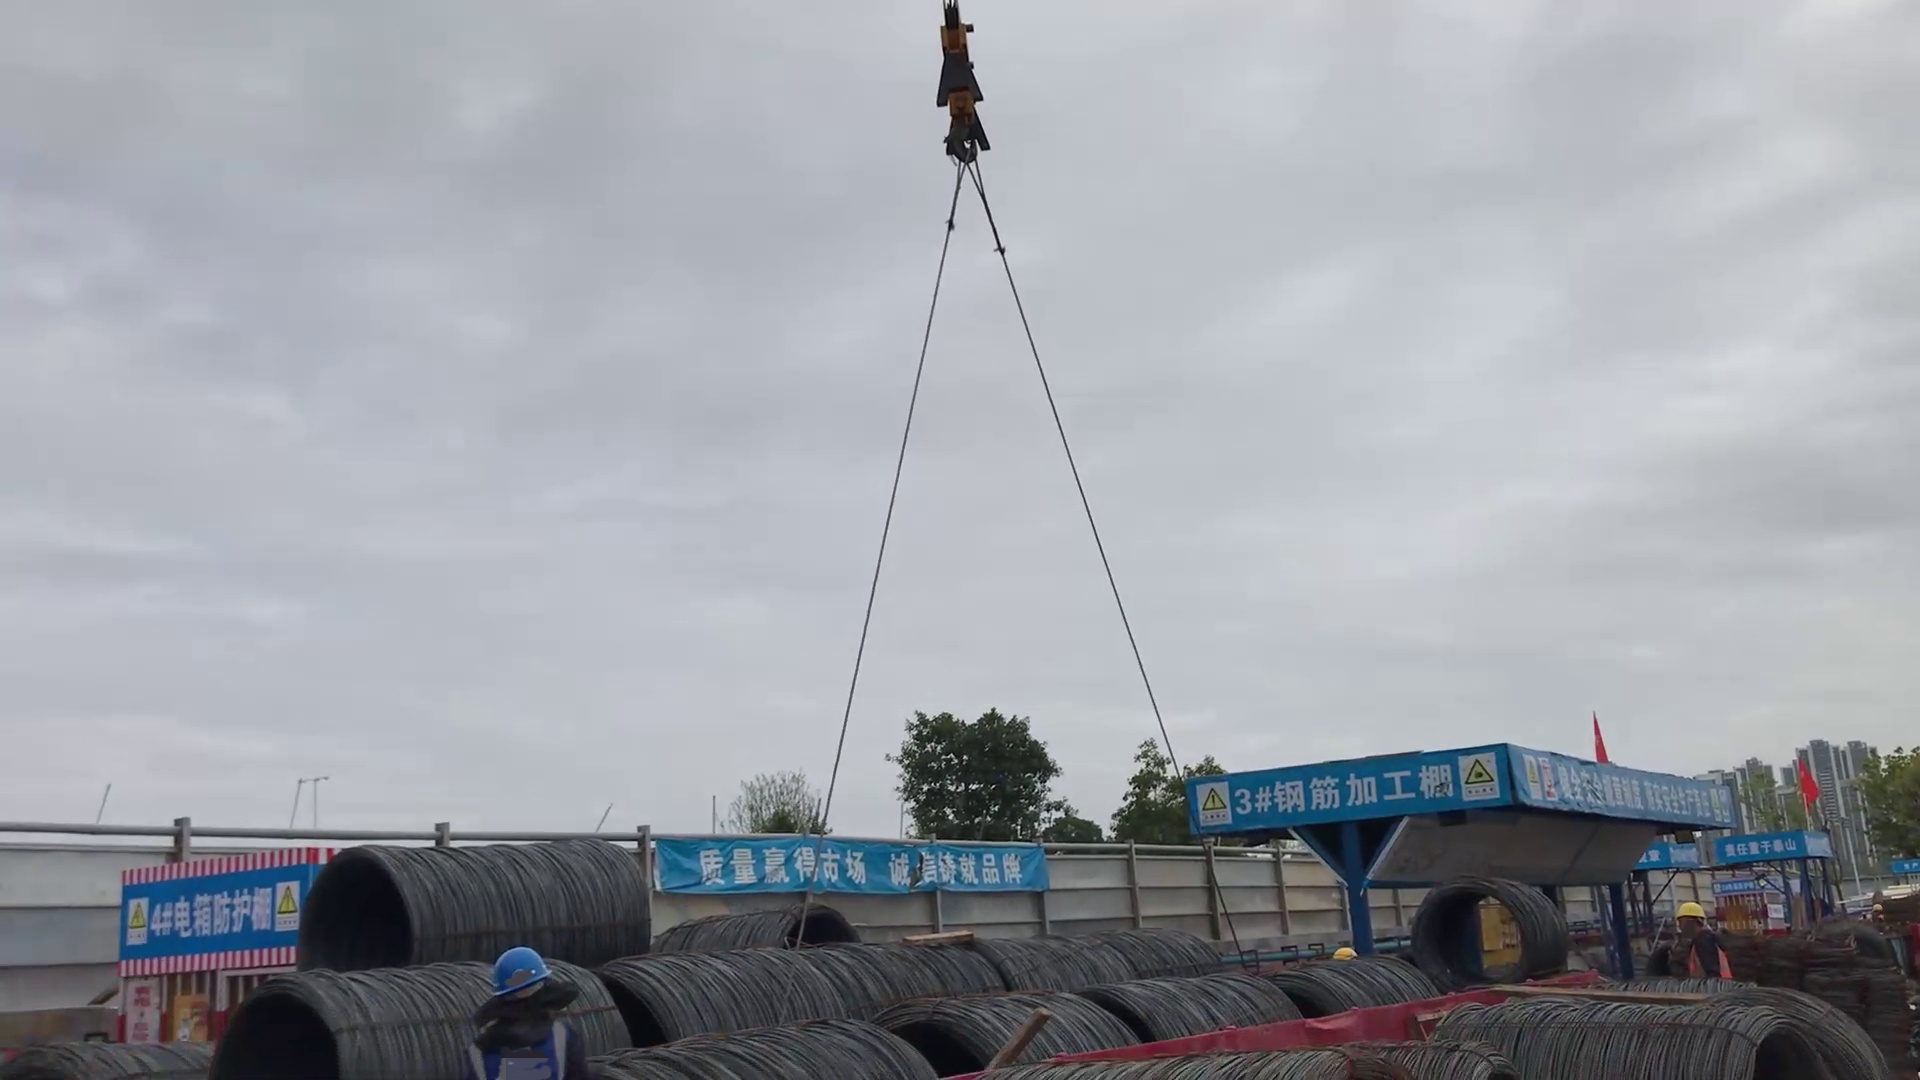helmet: (486, 946, 553, 1001), (1673, 899, 1708, 924), (1332, 945, 1358, 961), (1869, 900, 1885, 913)
hook: (932, 1, 994, 165)
person: (462, 945, 593, 1080), (1671, 899, 1735, 980)
slogan: (1189, 742, 1739, 831), (649, 828, 1051, 894), (119, 850, 318, 975), (1639, 832, 1832, 872), (121, 973, 166, 1042), (1708, 875, 1764, 894), (1889, 857, 1920, 876)
vest: (466, 1015, 569, 1080), (1689, 928, 1732, 978)
